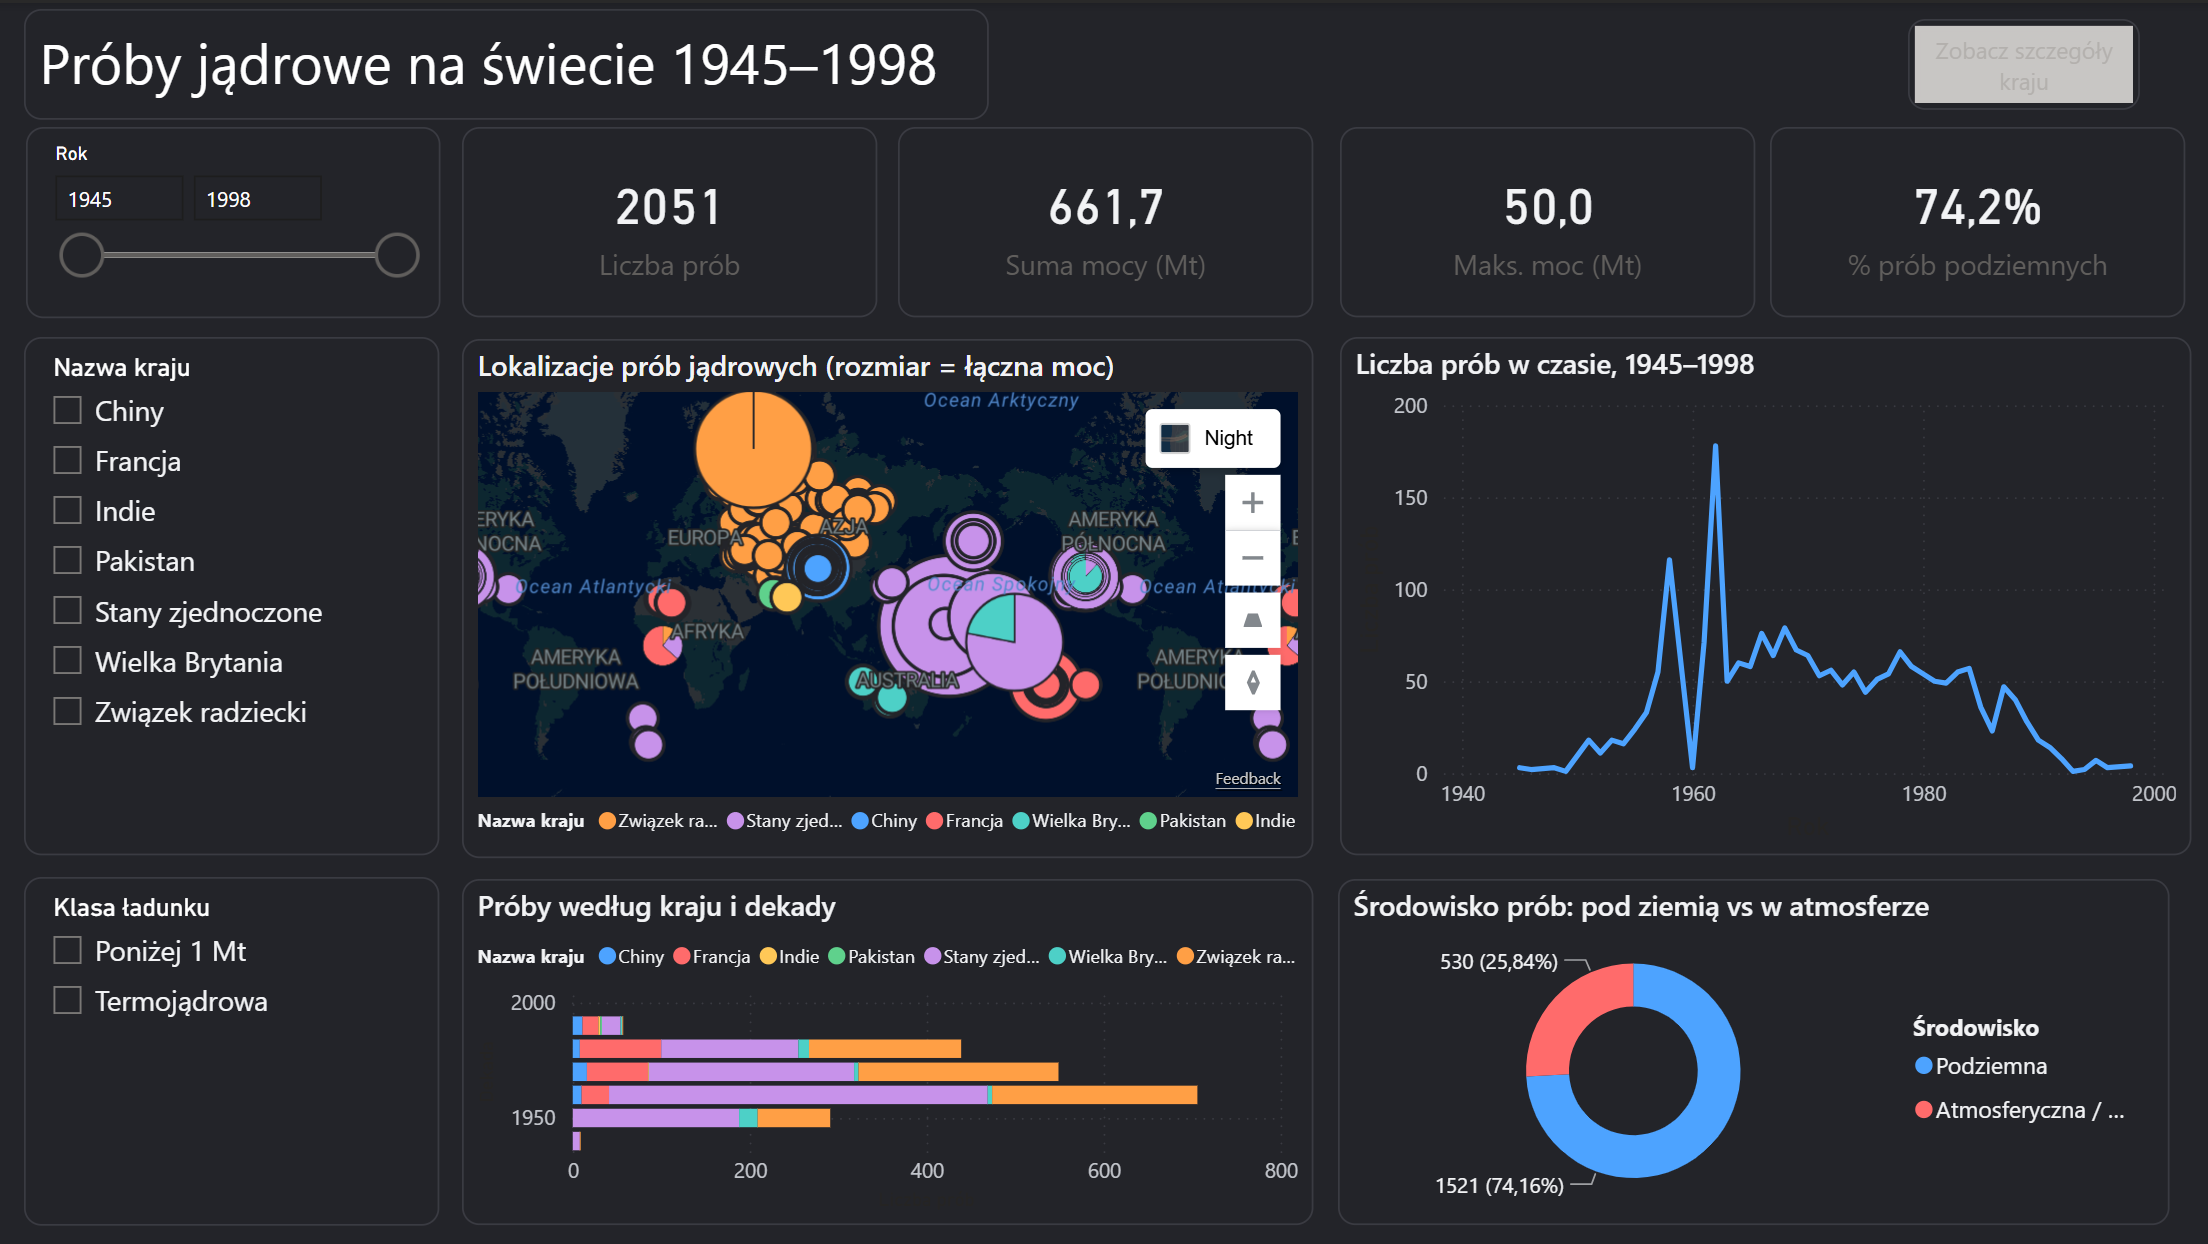

The dashboard page shown, as its layout file describes it:
{"tool":"powerbi","page":{"name":"Ogólny","canvas":[1280,720],"ordinal":0},"visuals":[{"type":"card","fields":{"Values":["_Miary.Liczba prób"]},"box":[268,72,240,110],"z":0},{"type":"card","fields":{"Values":["_Miary.Maks. moc (Mt)"]},"box":[775.2,72,240,110],"z":1000},{"type":"card","fields":{"Values":["_Miary.Suma mocy (Mt)"]},"box":[520,72,240,110],"z":2000},{"type":"textbox","box":[15.6,4,557.3,64],"z":3000},{"type":"card","fields":{"Values":["_Miary.% prób podziemnych"]},"box":[1024,72,240,110],"z":4000},{"type":"lineChart","title":"Liczba prób w czasie, 1945–1998","fields":{"Category":["Dim_Data.Rok"],"Y":["_Miary.Liczba prób"]},"box":[775.2,193.6,492.2,299.6],"z":5000},{"type":"azureMap","title":"Lokalizacje prób jądrowych (rozmiar = łączna moc)","fields":{"Series":["Dim_Kraj.Nazwa kraju"],"Size":["_Miary.Suma mocy (Mt)"],"X":["Fakty_Proby.Długość geo"],"Y":["Fakty_Proby.Szerokość geo"]},"box":[268,194,492,300],"z":6000},{"type":"barChart","title":"Próby według kraju i dekady","fields":{"Category":["Dim_Data.Dekada"],"Series":["Dim_Kraj.Nazwa kraju"],"Y":["_Miary.Liczba prób"]},"box":[268,506,492,200],"z":7000},{"type":"donutChart","title":"Środowisko prób: pod ziemią vs w atmosferze","fields":{"Category":["Fakty_Proby.Środowisko"],"Y":["_Miary.Liczba prób"]},"box":[773.9,506.3,480.3,200.2],"z":8000},{"type":"slicer","fields":{"Values":["Dim_Data.Rok"]},"box":[16.2,71.8,239.7,110.4],"z":9000},{"type":"slicer","fields":{"Values":["Dim_Kraj.Nazwa kraju"]},"box":[15.6,193.6,240.2,299.6],"z":10000},{"type":"slicer","fields":{"Values":["Fakty_Proby.Klasa ładunku"]},"box":[15.6,504.8,240.2,201.3],"z":11000},{"type":"actionButton","box":[1104,9.7,134.2,52.5],"z":12000}]}

Visuals, with their boxes in screenshot pixels (x1, y1, x2, y2), scaled from the page's 1280x720 canvas onto the 2208x1244 screenshot:
card - _Miary.Liczba prób: detection(462, 124, 876, 314)
card - _Miary.Maks. moc (Mt): detection(1337, 124, 1751, 314)
card - _Miary.Suma mocy (Mt): detection(897, 124, 1311, 314)
textbox: detection(27, 7, 988, 117)
card - _Miary.% prób podziemnych: detection(1766, 124, 2180, 314)
"Liczba prób w czasie, 1945–1998" lineChart: detection(1337, 334, 2186, 852)
"Lokalizacje prób jądrowych (rozmiar = łączna moc)" azureMap: detection(462, 335, 1311, 854)
"Próby według kraju i dekady" barChart: detection(462, 874, 1311, 1220)
"Środowisko prób: pod ziemią vs w atmosferze" donutChart: detection(1335, 875, 2163, 1221)
slicer - Dim_Data.Rok: detection(28, 124, 441, 315)
slicer - Dim_Kraj.Nazwa kraju: detection(27, 334, 441, 852)
slicer - Fakty_Proby.Klasa ładunku: detection(27, 872, 441, 1220)
actionButton: detection(1904, 17, 2136, 107)
